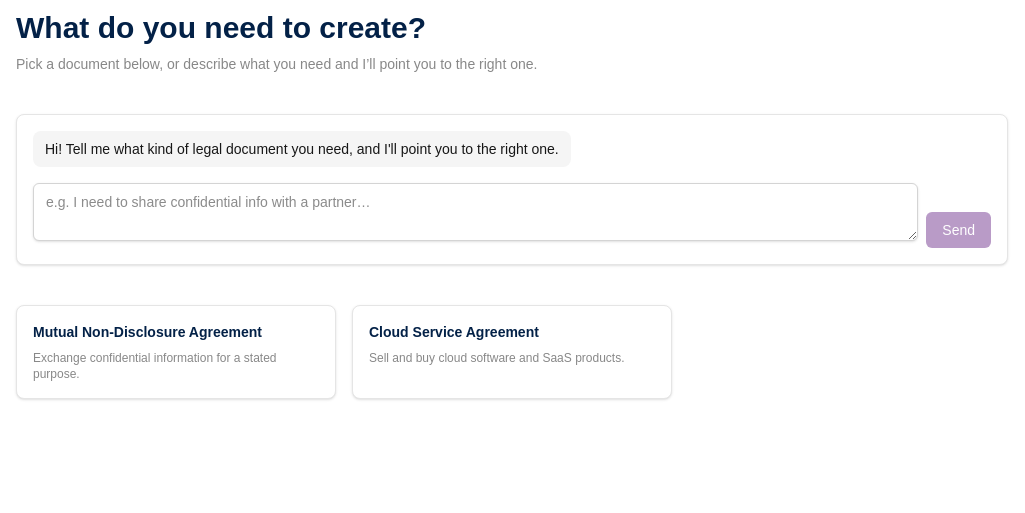
Test: DocumentPicker › navigates to the matched document type when the AI recognizes the request
Type "I sell SaaS and need a contract for customers" into the text box named "Message" at (476, 212), box left=33, top=183, right=918, bottom=241
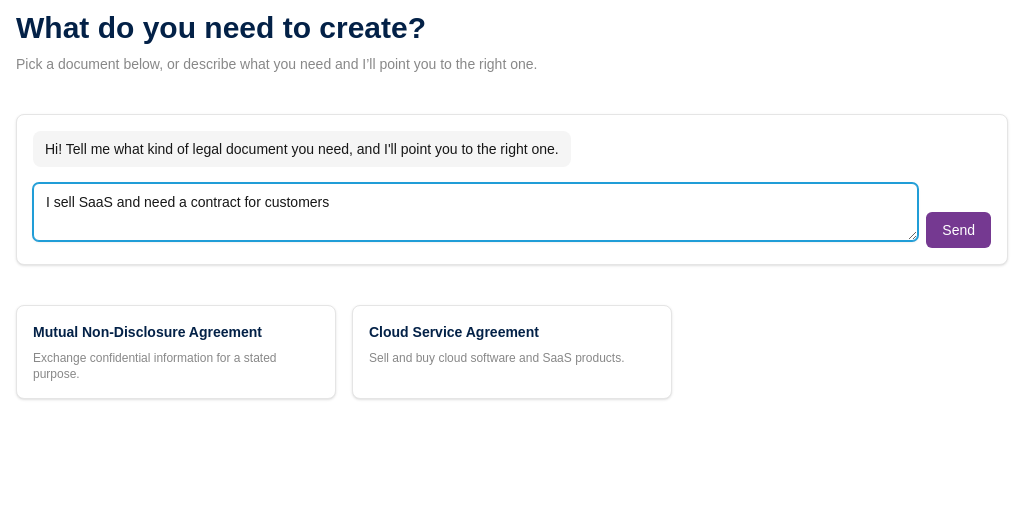
Click the button "Send" at (959, 230), box left=926, top=212, right=991, bottom=248
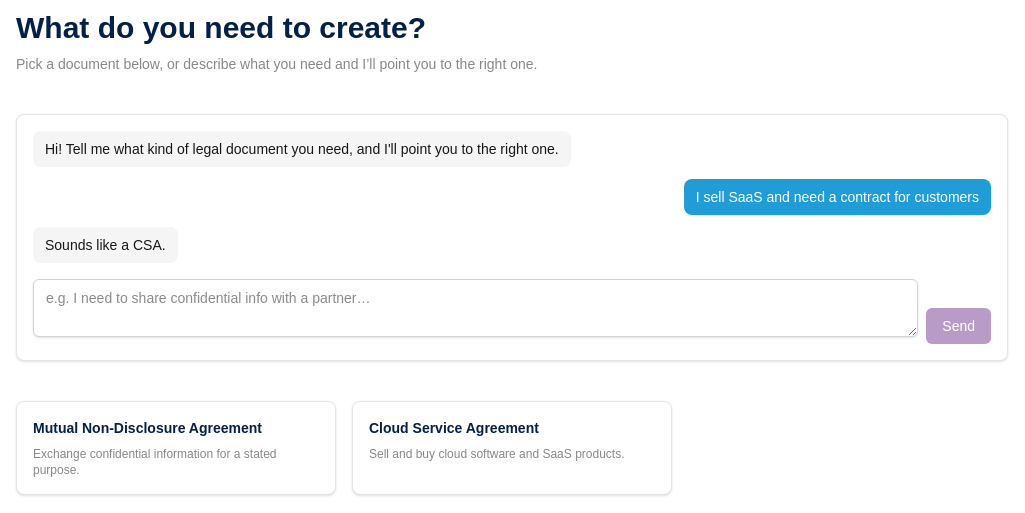
Check: the text "Sounds like a CSA." is shown, box left=33, top=227, right=178, bottom=263
